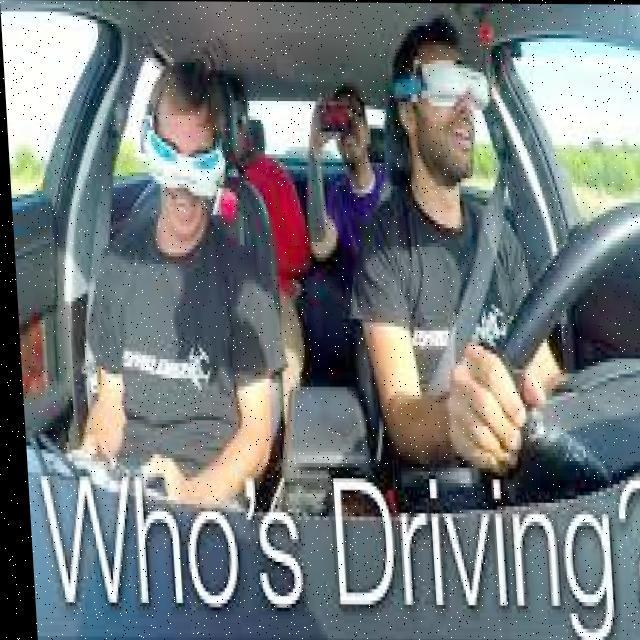noSeatbelt: (103, 194, 249, 503)
seatbelt: (377, 156, 516, 408)
